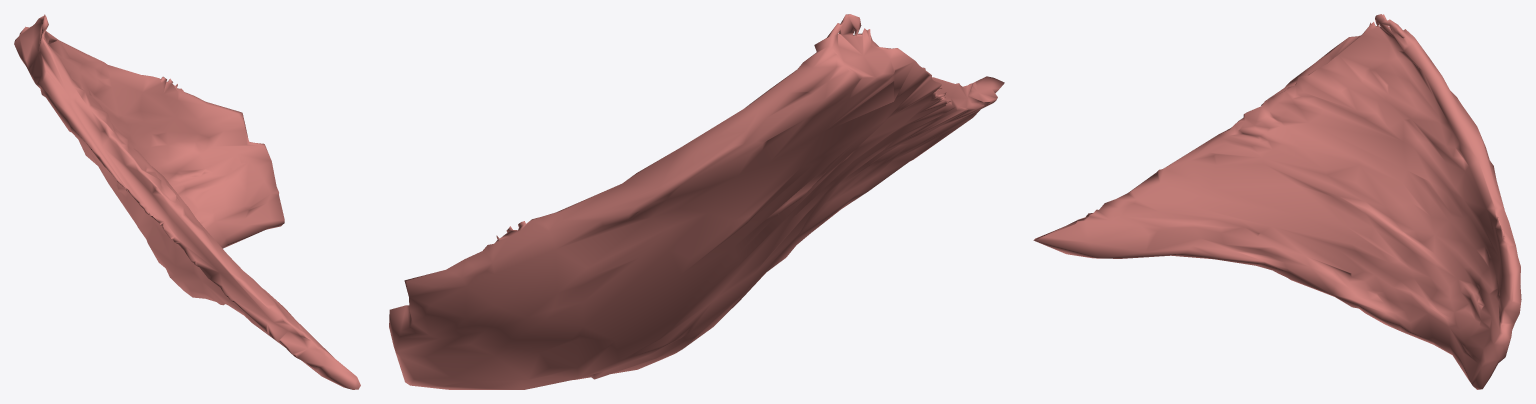
The picture shows the model from 3 angles, left to right: view 1: azimuth 30°, elevation 25°; view 2: azimuth 150°, elevation 25°; view 3: azimuth 270°, elevation 25°; orthographic projection. The views are drawn at different scales.
Visible parts, largest first — view 1: ZA_96385f94336b71ee; view 2: ZA_96385f94336b71ee; view 3: ZA_96385f94336b71ee.
Part boxes in pixels (bbox=[...]): ZA_96385f94336b71ee: bbox=[14, 14, 360, 389]; ZA_96385f94336b71ee: bbox=[389, 14, 1004, 389]; ZA_96385f94336b71ee: bbox=[1033, 14, 1521, 389].
Bounding box in the file's own units: 0.0459 × 0.0447 × 0.0757.
